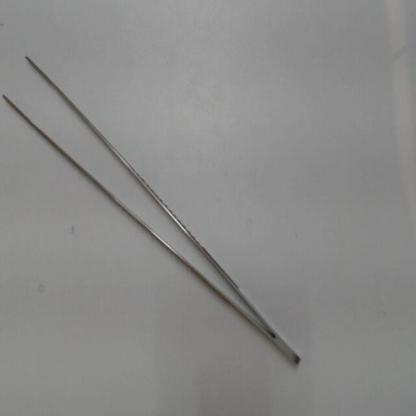DeBakey Dissector: (3, 37, 324, 388)
